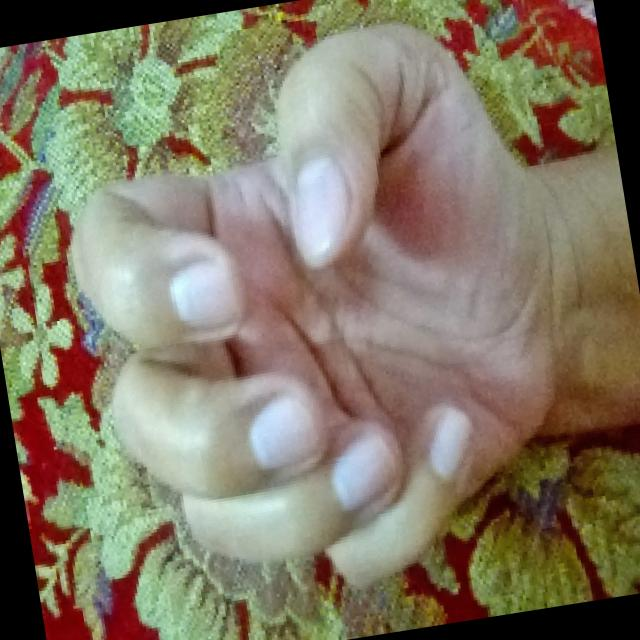Nail: (295, 157, 351, 257), (331, 425, 397, 509), (249, 394, 314, 469), (169, 259, 238, 327), (428, 406, 471, 477)
